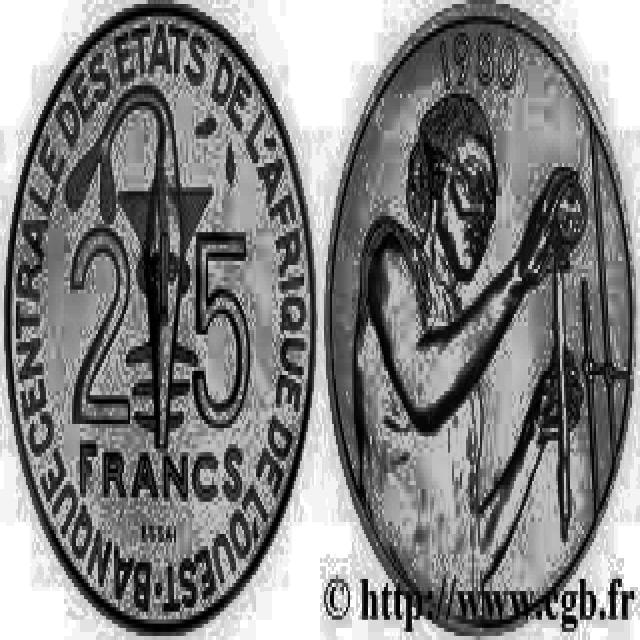juroom derem: (326, 5, 634, 629), (6, 10, 312, 622)
